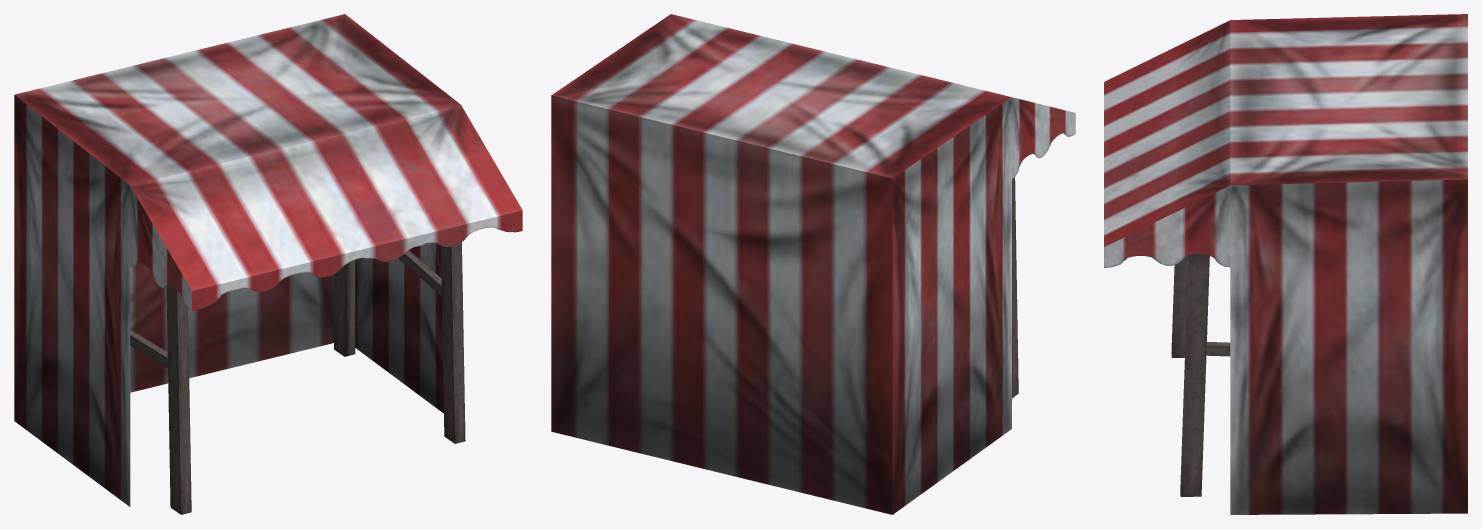
The model's file is red_cheonmak.FBX.
3 views of the same model, side by side, from view 1: azimuth 30°, elevation 25°; view 2: azimuth 150°, elevation 25°; view 3: azimuth 270°, elevation 25° (orthographic). The views are drawn at different scales.
Visible parts, largest first — view 1: Object005, Object007, Object010, Object014, Object013, Object001, polySurface21, polySurface20, Object008, polySurface19, Object004, Object009 (+3 smaller); view 2: Object014, Object007, Object010, Object008, Object004, Object009, polySurface21, Object003; view 3: Object013, Object007, Object005, Object011, polySurface20, Object006, Object012, Object002, polySurface21.
Boxes of the visible parts, left/top/right/bottom form: Object005: left=130, top=105, right=522, bottom=290; Object007: left=14, top=14, right=460, bottom=185; Object010: left=14, top=95, right=130, bottom=506; Object014: left=130, top=262, right=333, bottom=392; Object013: left=355, top=242, right=443, bottom=413; Object001: left=192, top=210, right=522, bottom=310; polySurface21: left=166, top=286, right=191, bottom=514; polySurface20: left=441, top=242, right=465, bottom=443; Object008: left=15, top=95, right=130, bottom=242; polySurface19: left=334, top=260, right=355, bottom=356; Object004: left=130, top=186, right=191, bottom=290; Object009: left=16, top=97, right=130, bottom=270; Object014: left=551, top=95, right=892, bottom=514; Object007: left=552, top=14, right=1011, bottom=178; Object010: left=892, top=178, right=1011, bottom=514; Object008: left=893, top=97, right=1011, bottom=178; Object004: left=1012, top=97, right=1074, bottom=155; Object009: left=893, top=156, right=1011, bottom=185; polySurface21: left=1012, top=177, right=1018, bottom=398; Object003: left=1012, top=113, right=1075, bottom=179; Object013: left=1230, top=179, right=1467, bottom=514; Object007: left=1230, top=14, right=1467, bottom=185; Object005: left=1104, top=20, right=1230, bottom=246; Object011: left=1230, top=179, right=1466, bottom=243; polySurface20: left=1180, top=254, right=1209, bottom=496; Object006: left=1104, top=186, right=1230, bottom=247; Object012: left=1230, top=179, right=1466, bottom=273; Object002: left=1104, top=244, right=1230, bottom=267; polySurface21: left=1171, top=256, right=1188, bottom=357.
Size of the model in its own units: 31.07 by 29.44 by 28.88.
